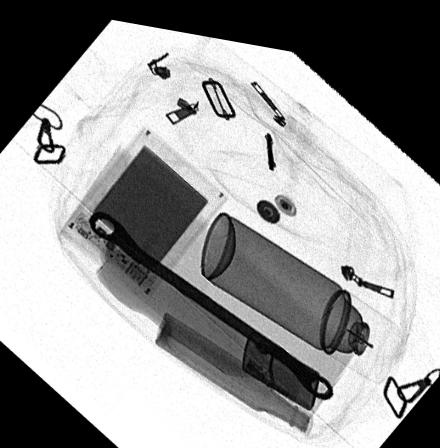Lighter: (240, 320, 318, 400)
Powerbank: (69, 119, 227, 294)
Sprayer: (200, 202, 405, 373)
